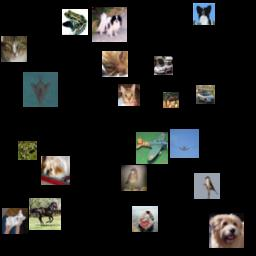airplane: (23, 72, 58, 107), (136, 132, 168, 164), (170, 129, 199, 158)
automobile: (154, 56, 173, 75), (196, 85, 215, 104)
bird: (121, 165, 147, 191), (194, 173, 220, 199)
cat: (102, 51, 128, 77), (1, 36, 27, 62), (118, 84, 140, 106)
dog: (92, 7, 127, 42), (209, 213, 244, 248), (41, 156, 70, 185), (2, 208, 28, 234), (193, 3, 215, 25)
frog: (62, 9, 88, 35), (18, 141, 37, 160)
ship: (132, 206, 158, 232)
